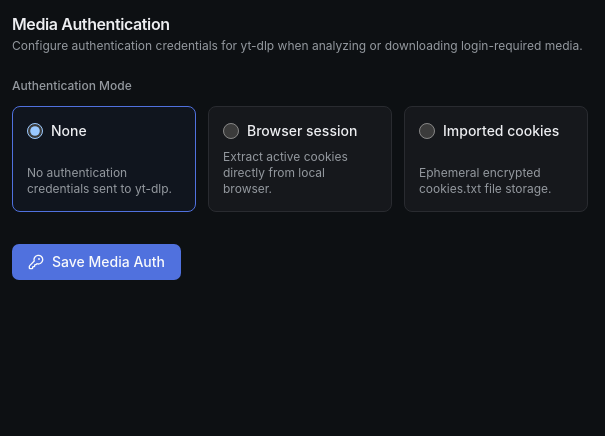
Test case: MediaAuthPanel Component › shows import UI when Imported cookies mode is selected and no cookies exist
Expected: the heading "Media Authentication" is shown, [12,14,170,34]
What coordinates should you click on to do the following:
click the radio button labelled "Imported cookies"
I would click on:
 (427, 131)
Its box is [419,123,435,139].
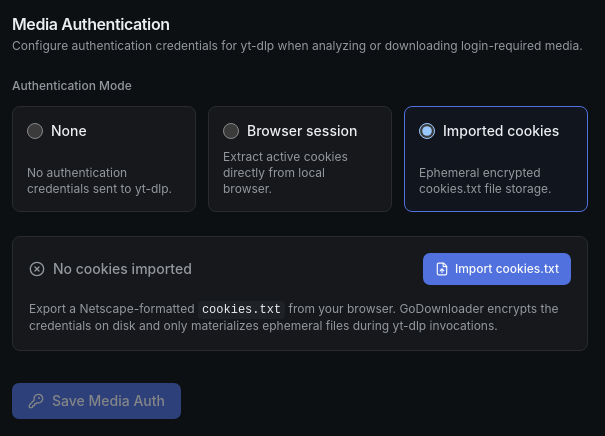
Now the text "No cookies imported" is shown, box [53,259,192,279]
Now the button "Import cookies.txt" is shown, box [423,253,571,285]
